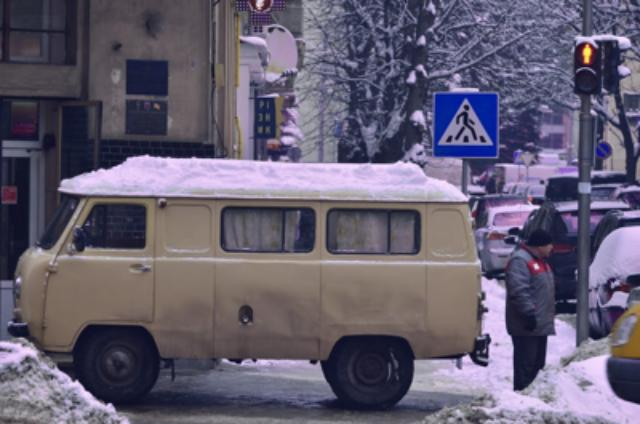crosswalk-sign: (430, 89, 502, 161)
